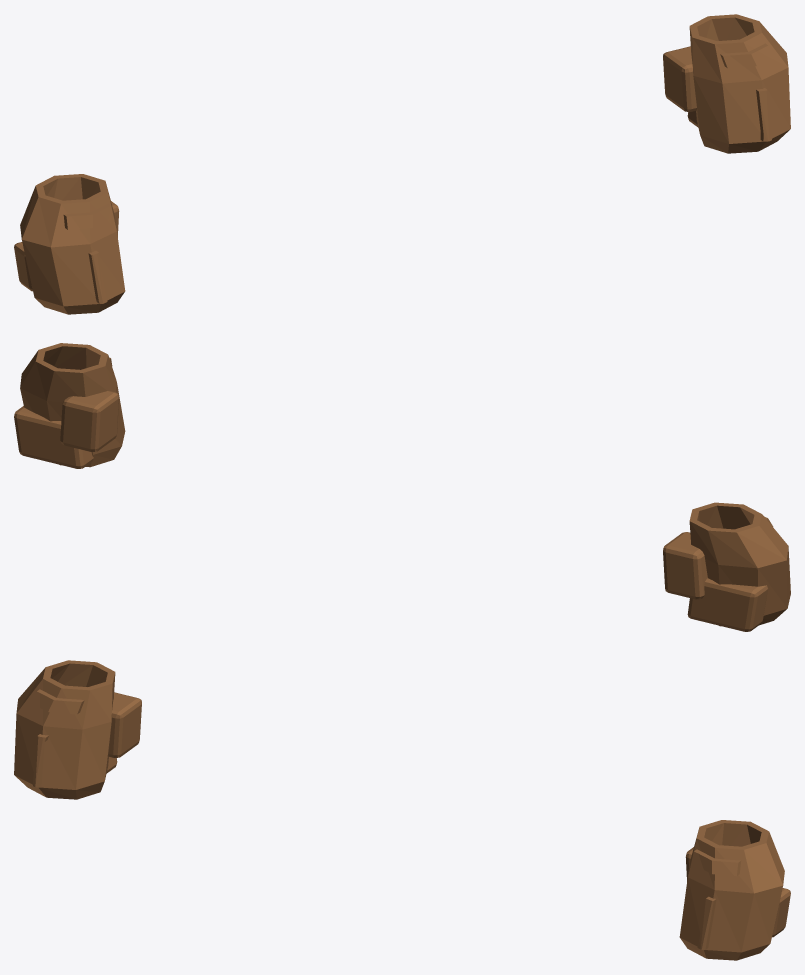
Rendered from leather_hands-female.glb.
3 views of the same model, one above another, from view 1: azimuth 30°, elevation 25°; view 2: azimuth 150°, elevation 25°; view 3: azimuth 330°, elevation 25° (orthographic).
Visible parts, largest first — view 1: Block hand armor -1, Block hand armor 1, Block thumb armor 1, Glove turned wrist seam -1, Glove turned wrist seam 1, Glove back seam 1, Glove back seam -1; view 2: Block hand armor -1, Block hand armor 1, Block hand curl armor -1, Block thumb armor 1, Block hand curl armor 1, Block thumb armor -1; view 3: Block hand armor 1, Block hand armor -1, Block thumb armor -1, Glove turned wrist seam -1, Glove turned wrist seam 1, Glove back seam -1, Glove back seam 1.
Part boxes in pixels (box(x1,y1,x2,y2)): Block hand armor -1: box(20, 174, 125, 314); Block hand armor 1: box(689, 14, 790, 153); Block thumb armor 1: box(663, 46, 696, 111); Glove turned wrist seam -1: box(63, 203, 112, 229); Glove turned wrist seam 1: box(720, 43, 773, 68); Glove back seam 1: box(756, 88, 771, 141); Glove back seam -1: box(88, 250, 107, 303); Block hand armor -1: box(689, 502, 790, 626); Block hand armor 1: box(20, 343, 125, 467); Block hand curl armor -1: box(687, 578, 767, 631); Block thumb armor 1: box(60, 391, 119, 451); Block hand curl armor 1: box(14, 406, 93, 468); Block thumb armor -1: box(663, 532, 707, 599); Block hand armor 1: box(679, 820, 784, 960); Block hand armor -1: box(14, 660, 115, 799); Block thumb armor -1: box(108, 692, 141, 757); Glove turned wrist seam -1: box(31, 689, 84, 714); Glove turned wrist seam 1: box(692, 849, 740, 876); Glove back seam -1: box(33, 734, 48, 787); Glove back seam 1: box(697, 896, 716, 949).
Bounding box in the file's own units: 3.95 × 0.5018 × 0.5132.
